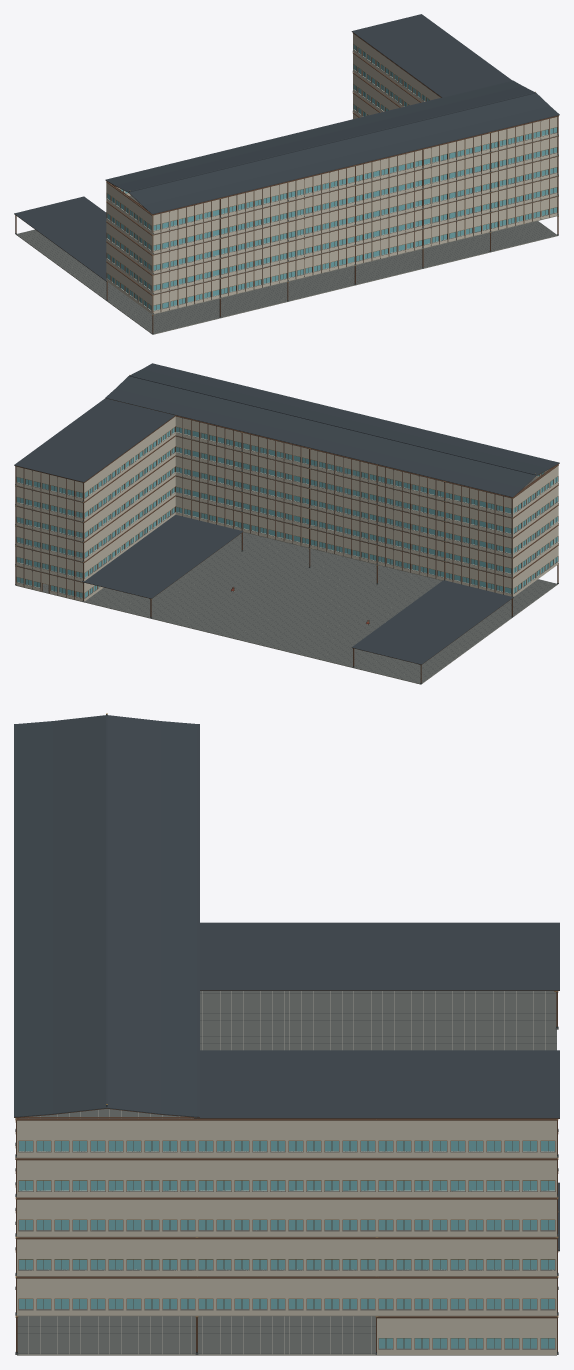
File: visual-far.glb
3 renders of one model, top to bottom at view 1: azimuth 30°, elevation 25°; view 2: azimuth 150°, elevation 25°; view 3: azimuth 270°, elevation 25°, orthographic. The views are drawn at different scales.
Parts seen in each view (by area): view 1: 参数墙 · 独立窗玻璃 (×39), 连续屋面 · gable, 石铺面与混凝土楼板 (×8), 连续屋面 · flat (×2); view 2: 参数墙 · 独立窗玻璃 (×45), 石铺面与混凝土楼板 (×14), 连续屋面 · gable, 连续屋面 · flat (×3), 参数墙 · 通行门洞; view 3: 参数墙 · 独立窗玻璃 (×16), 连续屋面 · gable, 连续屋面 · flat (×2), 石铺面与混凝土楼板 (×7).
Boxes of the visible parts, x1=… form: 参数墙 · 独立窗玻璃 (×39): x1=106, y1=33, x2=557, y2=313; 连续屋面 · gable: x1=105, y1=80, x2=559, y2=214; 石铺面与混凝土楼板 (×8): x1=16, y1=221, x2=557, y2=334; 连续屋面 · flat (×2): x1=14, y1=14, x2=511, y2=281; 参数墙 · 独立窗玻璃 (×45): x1=16, y1=415, x2=558, y2=596; 石铺面与混凝土楼板 (×14): x1=84, y1=537, x2=557, y2=684; 连续屋面 · gable: x1=105, y1=363, x2=559, y2=497; 连续屋面 · flat (×3): x1=14, y1=398, x2=513, y2=664; 参数墙 · 通行门洞: x1=16, y1=566, x2=82, y2=601; 参数墙 · 独立窗玻璃 (×16): x1=17, y1=1118, x2=556, y2=1354; 连续屋面 · gable: x1=14, y1=713, x2=199, y2=1118; 连续屋面 · flat (×2): x1=194, y1=922, x2=559, y2=1118; 石铺面与混凝土楼板 (×7): x1=17, y1=991, x2=556, y2=1355.
Size of the model in its own units: 128 by 38.28 by 75.2.
Materials: 15 (15 with a texture image).
